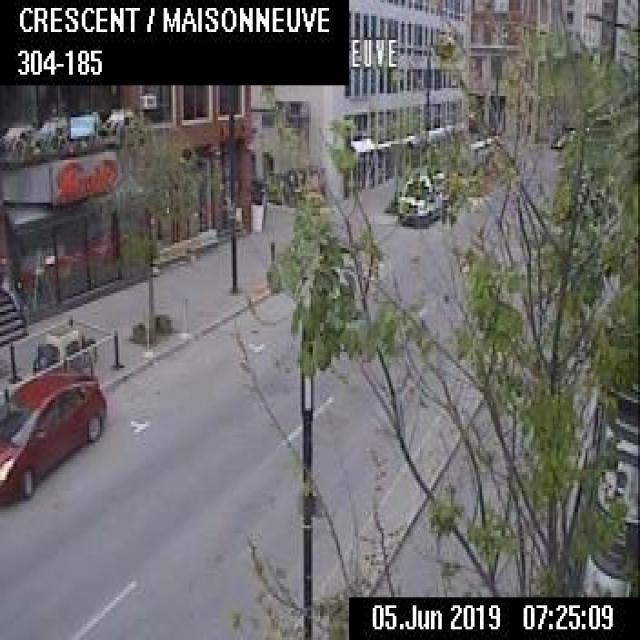vehicle: (0, 365, 107, 506), (394, 173, 444, 224)
